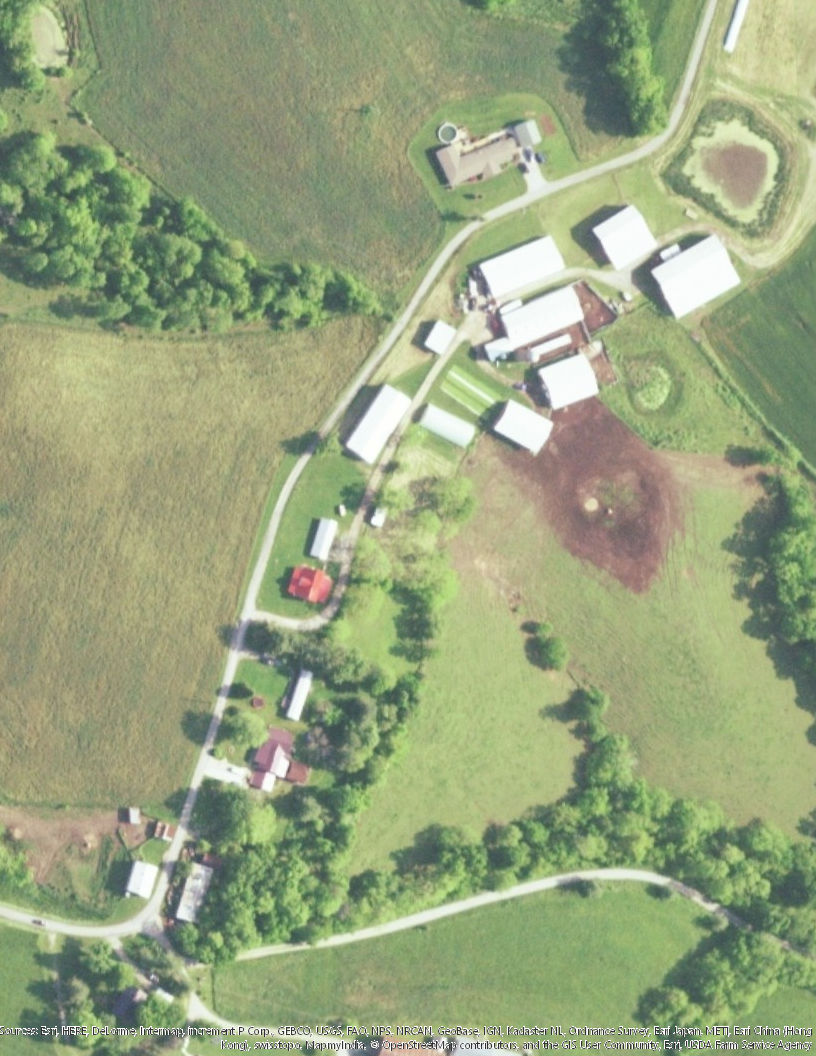cafo: (644, 227, 745, 324), (478, 284, 595, 360), (466, 232, 568, 299), (344, 375, 416, 460), (587, 198, 661, 271), (530, 348, 611, 412), (490, 398, 562, 458), (416, 397, 479, 449)
